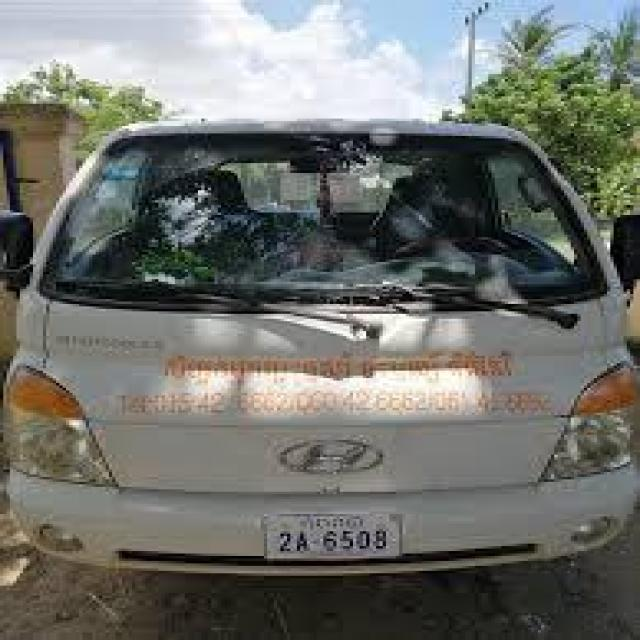Kampong_Speu: (301, 516, 364, 530)
